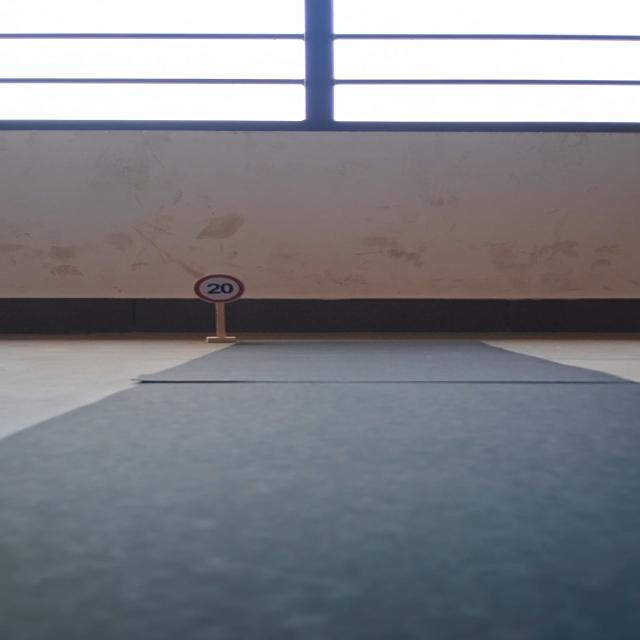Speed20: (182, 271, 252, 307)
